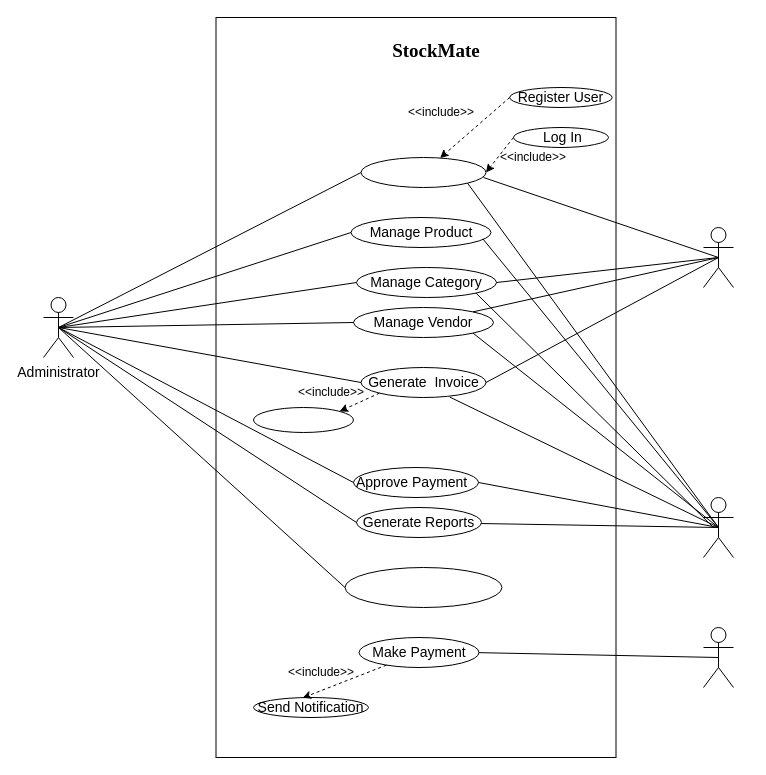
This 766x775 diagram has some shape labels left out. The shapes that lost their labels are listed below. From the top down, each one's centre as x and y in pixels, then its label:
the point at 423,172: Authenticate User
the point at 718,257: Staff
the point at 303,419: Send Invoice
the point at 718,527: Manager
the point at 423,587: Manage User
the point at 718,657: Customer
